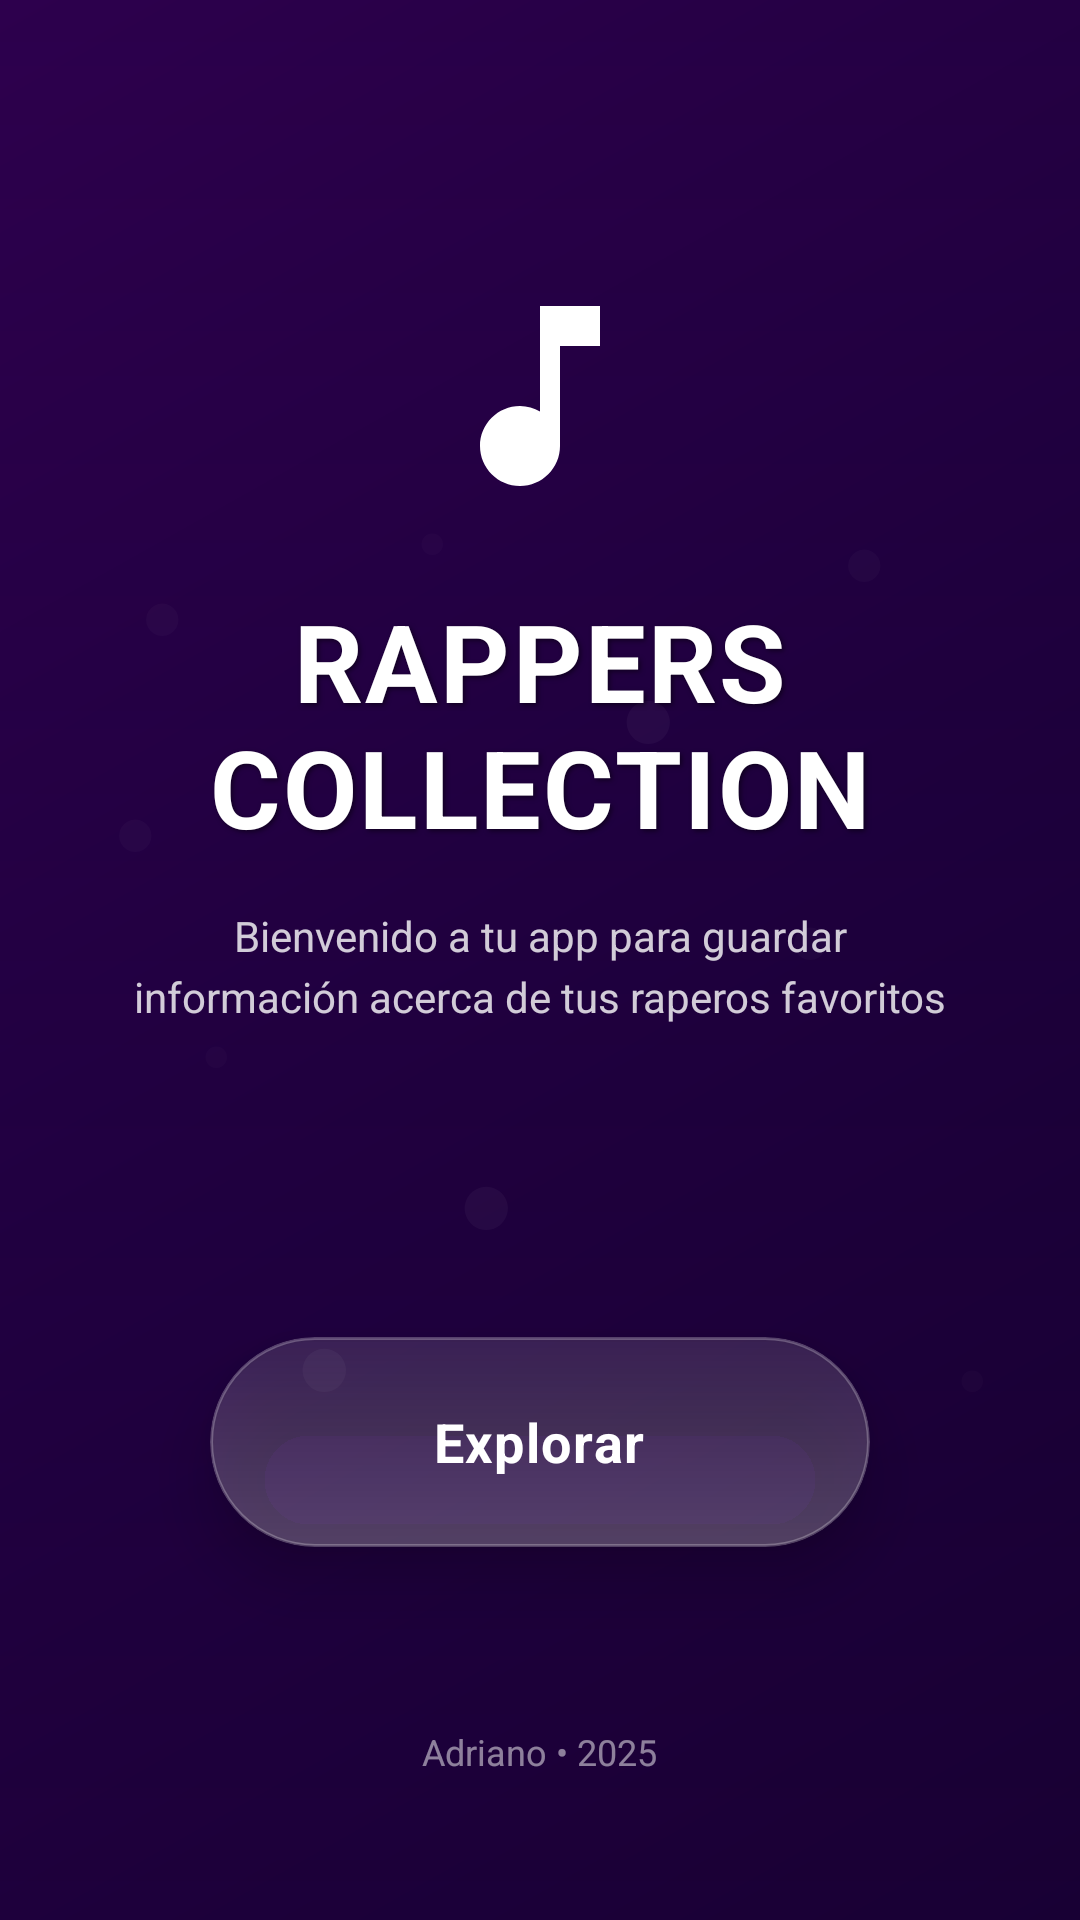

Icon bounding boxes for this 1080px×1920px phone screenshot, format (x1, y1, x2, y2):
music note: (480, 306, 600, 486)
